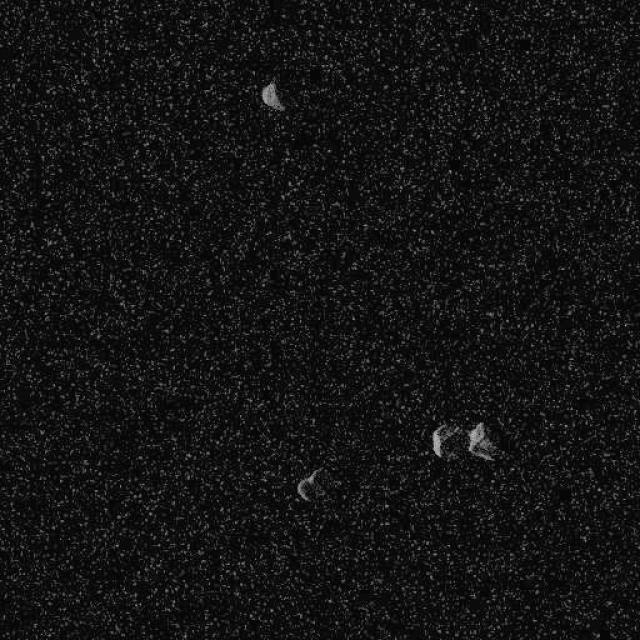D2: (430, 418, 498, 462), (295, 465, 325, 503), (260, 80, 285, 111)
